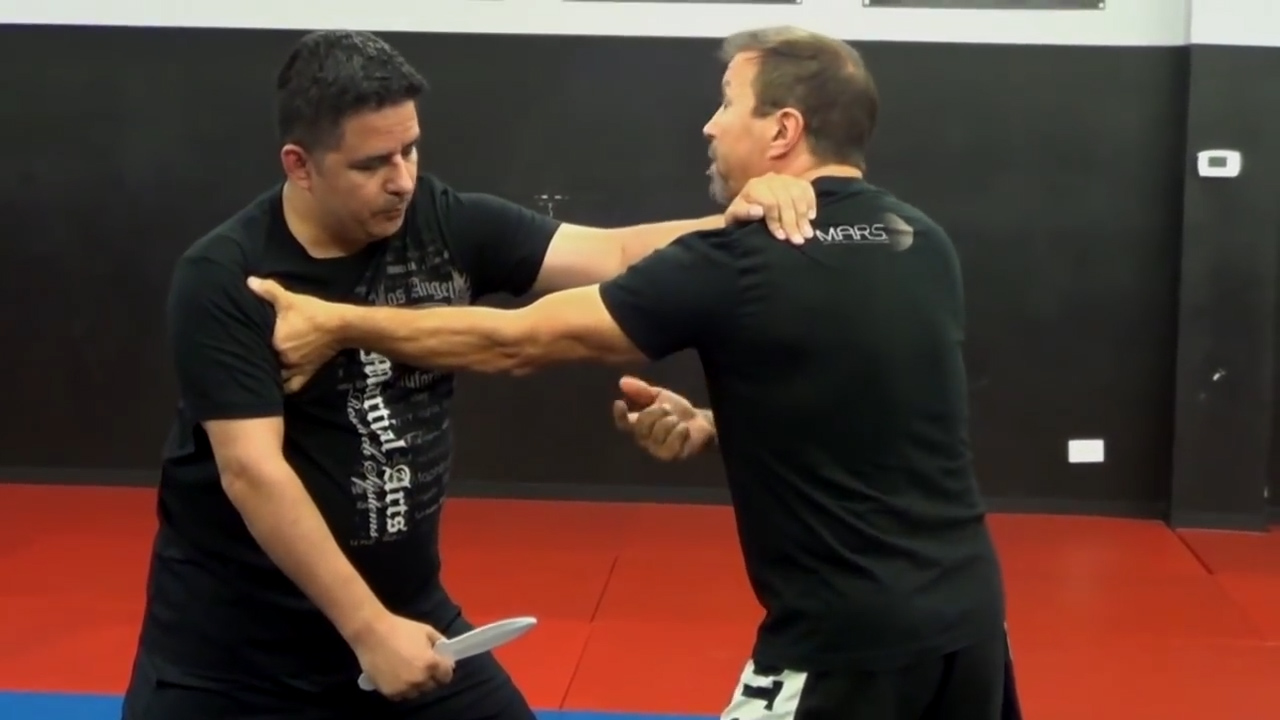knife: (356, 608, 544, 699)
